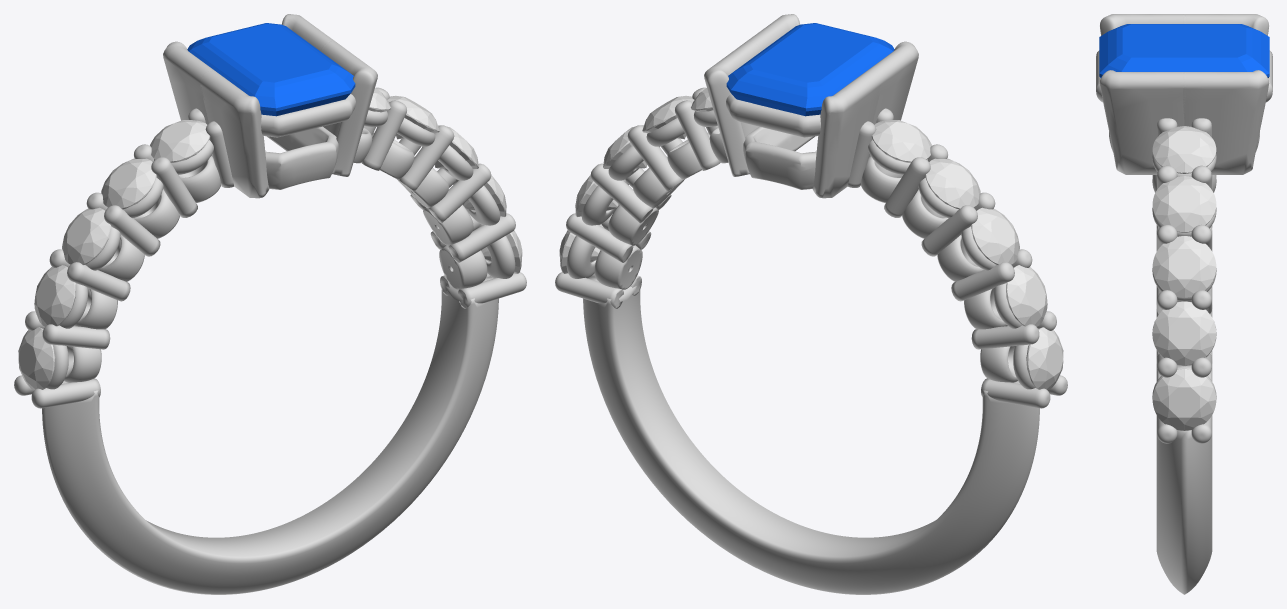
File: bluesapphire-emerald-platinum-halfmoonbezel-knifeedge-11stone.glb
The picture shows the model from 3 angles, left to right: view 1: azimuth 30°, elevation 25°; view 2: azimuth 150°, elevation 25°; view 3: azimuth 270°, elevation 25°; orthographic projection.
Parts seen in each view (by area): view 1: metal.003, stone.002, side.024, side.025, side.023, side.026, side.002, side.028; view 2: metal.003, stone.002, side.024, side.025, side.023, side.026, side.002, side.028; view 3: metal.003, stone.002, side.030, side.031, side.029, side.028, side.027.
Boxes of the visible parts, x1,y1,x2,y2 form: metal.003: [14, 14, 526, 594]; stone.002: [187, 23, 355, 116]; side.024: [62, 207, 110, 264]; side.025: [101, 158, 156, 209]; side.023: [34, 265, 75, 326]; side.026: [150, 120, 210, 162]; side.002: [18, 327, 55, 390]; side.028: [387, 95, 439, 139]; metal.003: [555, 14, 1067, 594]; stone.002: [726, 23, 894, 116]; side.024: [971, 207, 1019, 264]; side.025: [925, 158, 980, 209]; side.023: [1006, 265, 1047, 326]; side.026: [871, 120, 931, 162]; side.002: [1026, 327, 1063, 390]; side.028: [642, 95, 694, 139]; metal.003: [1096, 14, 1272, 594]; stone.002: [1099, 24, 1269, 77]; side.030: [1152, 301, 1216, 365]; side.031: [1152, 368, 1216, 430]; side.029: [1152, 236, 1216, 297]; side.028: [1152, 176, 1216, 232]; side.027: [1152, 126, 1216, 173].
Bounding box in the file's own units: 22.03 × 22.94 × 6.94.
